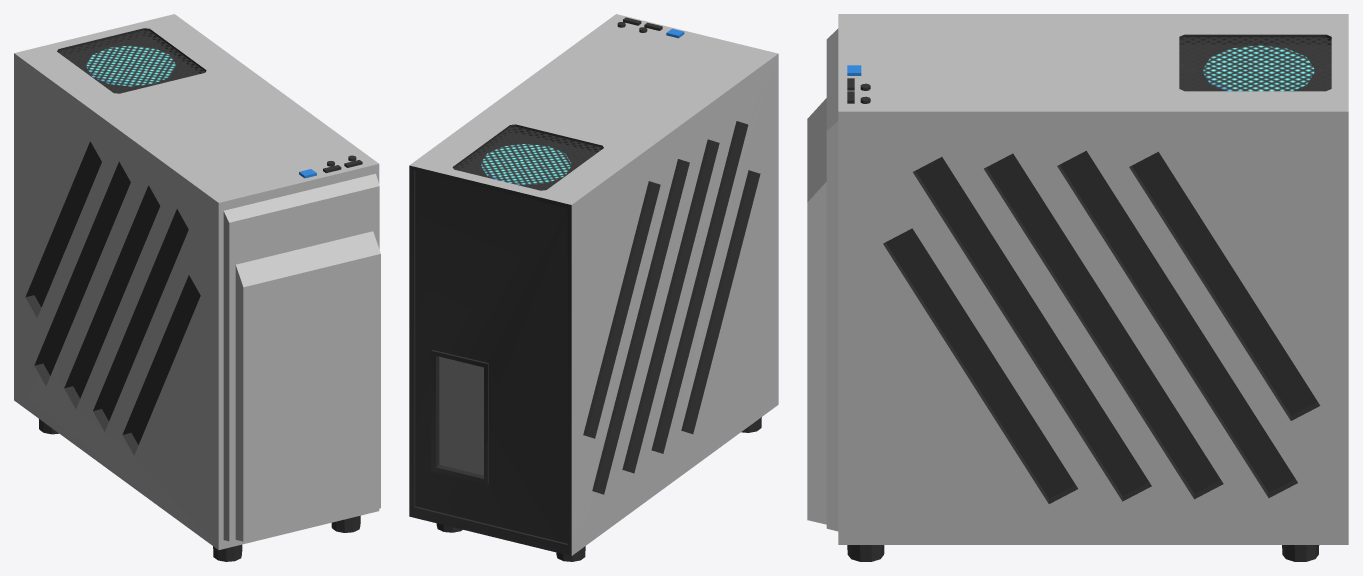
Rendered from computer_5.glb.
The picture shows the model from 3 angles, left to right: view 1: azimuth 30°, elevation 25°; view 2: azimuth 150°, elevation 25°; view 3: azimuth 270°, elevation 25°; orthographic projection. The views are drawn at different scales.
Visible parts, largest first — view 1: PC Case 8; view 2: PC Case 8; view 3: PC Case 8.
Boxes of the visible parts, x1,y1,x2,y2 form: PC Case 8: (14, 14, 380, 561); PC Case 8: (409, 14, 778, 561); PC Case 8: (807, 14, 1348, 561).
Bounding box in the file's own units: 0.2108 × 0.4618 × 0.4934.
Materials: 3 (2 with a texture image).
